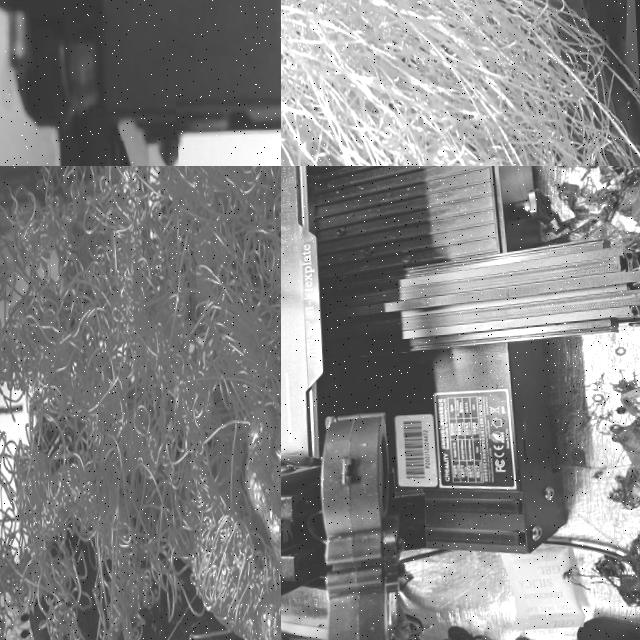spaghetti: (0, 166, 281, 640), (281, 0, 640, 166), (536, 319, 640, 606), (522, 166, 640, 243)
